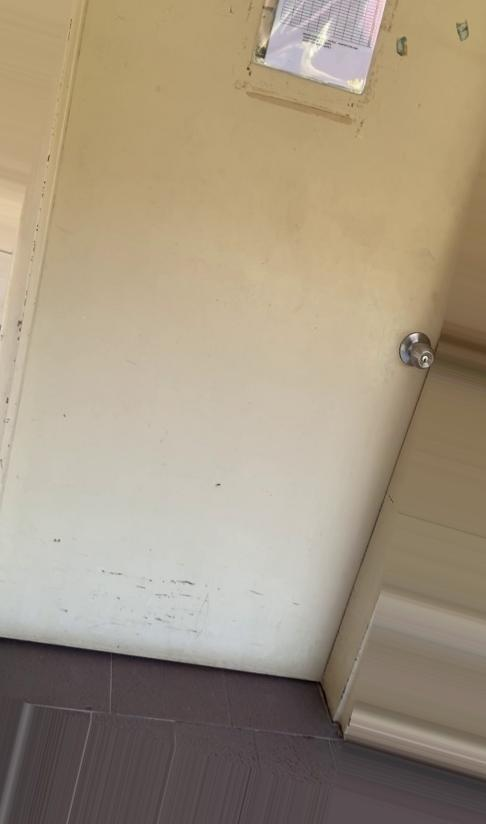door: (0, 0, 460, 737)
